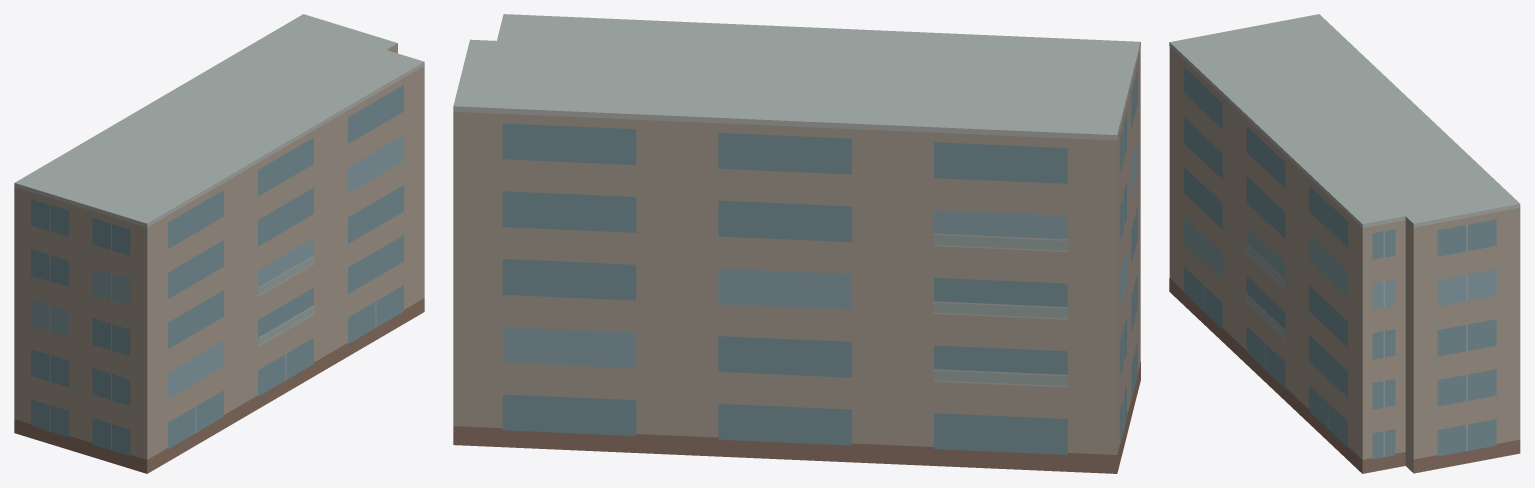
The model's file is survey-upis-32620854.glb.
The picture shows the model from 3 angles, left to right: view 1: azimuth 30°, elevation 25°; view 2: azimuth 150°, elevation 25°; view 3: azimuth 270°, elevation 25°; orthographic projection. The views are drawn at different scales.
Visible parts, largest first — view 1: survey-upis-32620854.tmp; view 2: survey-upis-32620854.tmp; view 3: survey-upis-32620854.tmp.
Boxes of the visible parts, x1,y1,x2,y2 form: survey-upis-32620854.tmp: (14, 14, 424, 473); survey-upis-32620854.tmp: (453, 14, 1140, 473); survey-upis-32620854.tmp: (1169, 14, 1520, 473).
Size of the model in its own units: 27.55 by 15.25 by 19.43.
